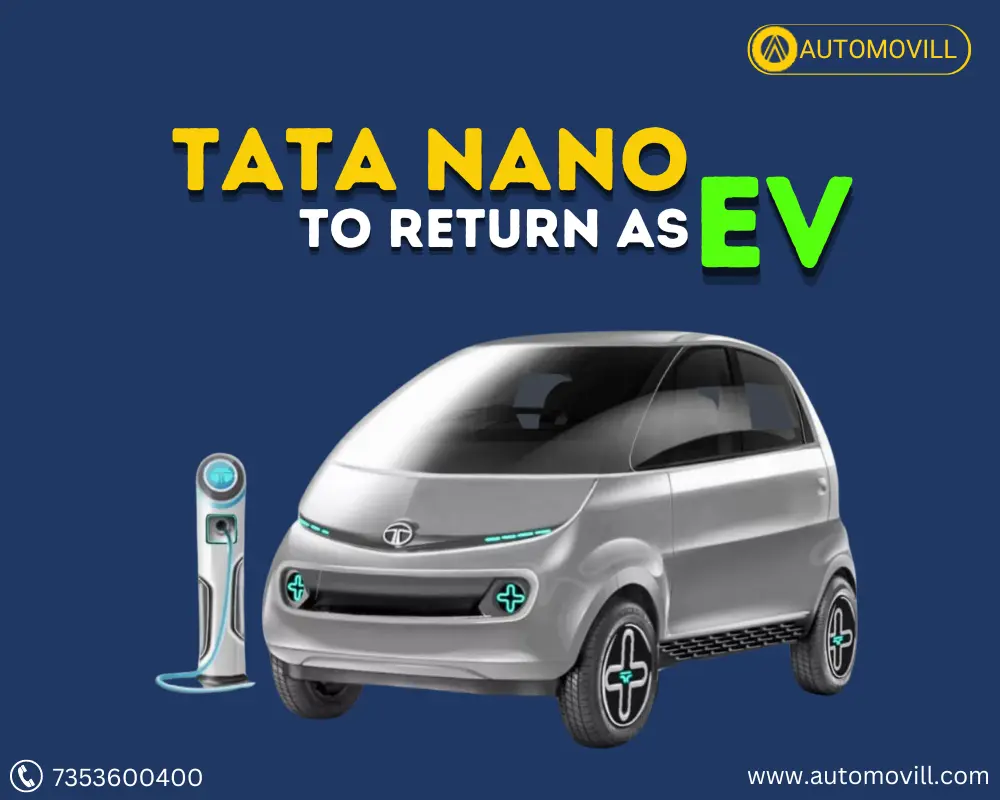Nano: (261, 320, 860, 748)
